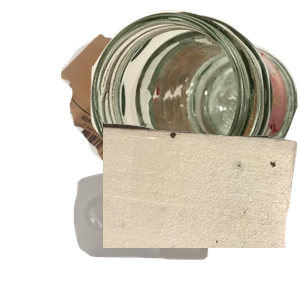cardboard: (58, 31, 222, 188)
glass: (90, 10, 300, 184)
plastic: (71, 169, 275, 300)
trash: (103, 120, 300, 300)
